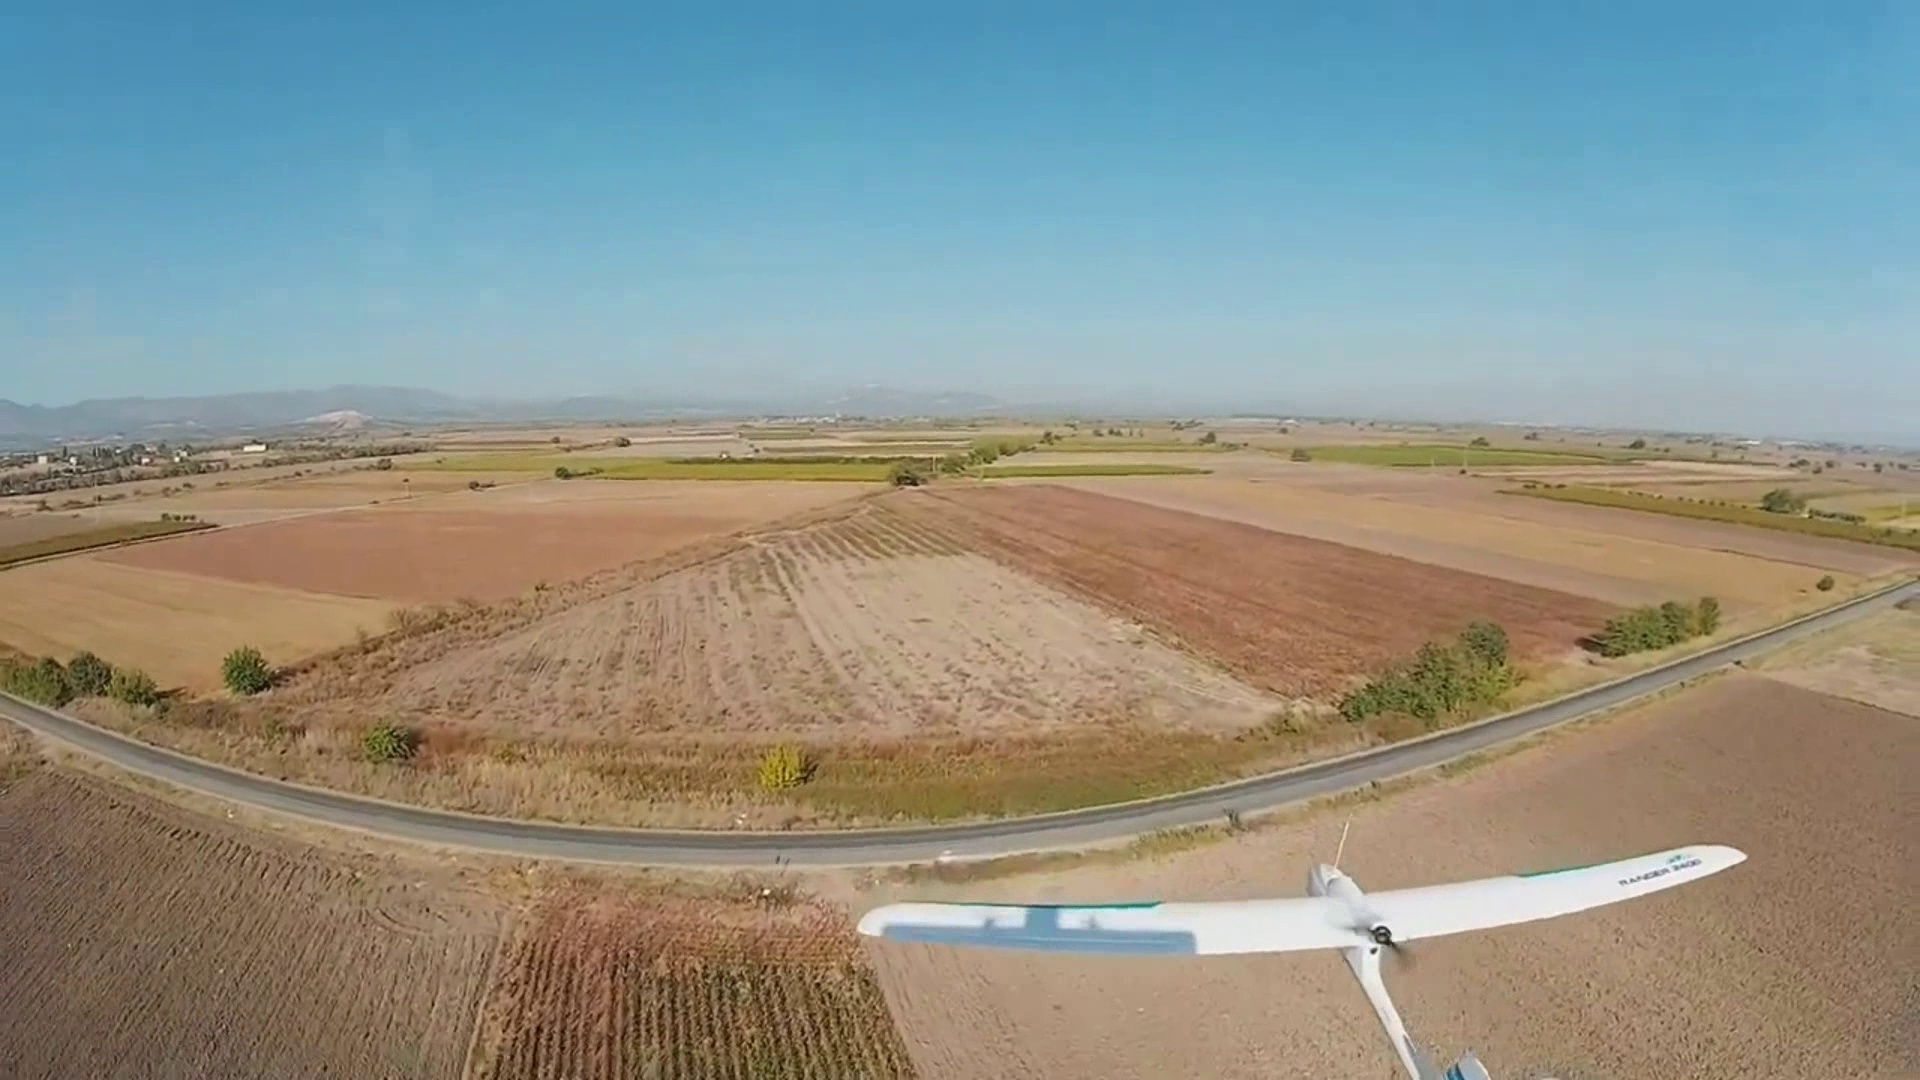airplane: (856, 843, 1749, 1072)
